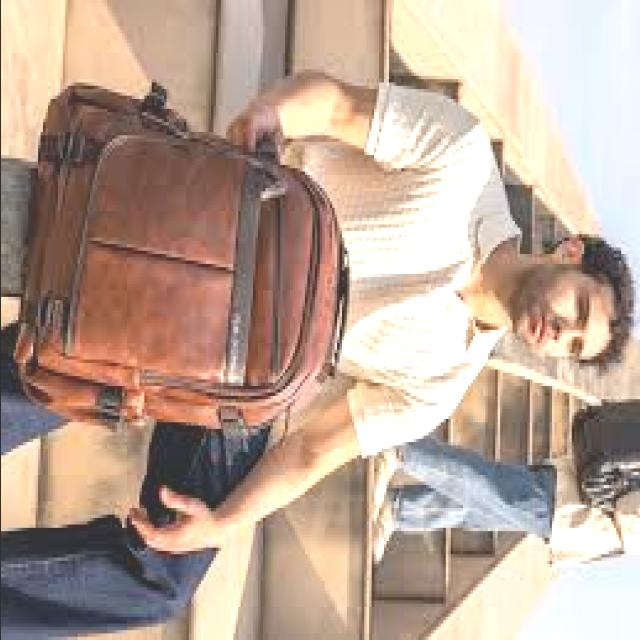backpack: (14, 80, 352, 433), (572, 397, 640, 519)
